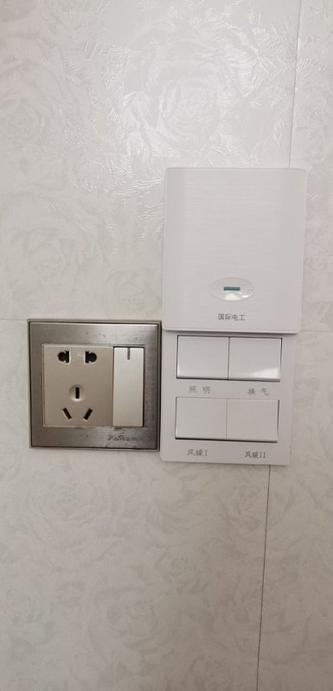switch: (112, 343, 144, 430), (228, 397, 283, 445), (227, 338, 282, 383), (175, 333, 226, 379), (182, 396, 226, 439)
